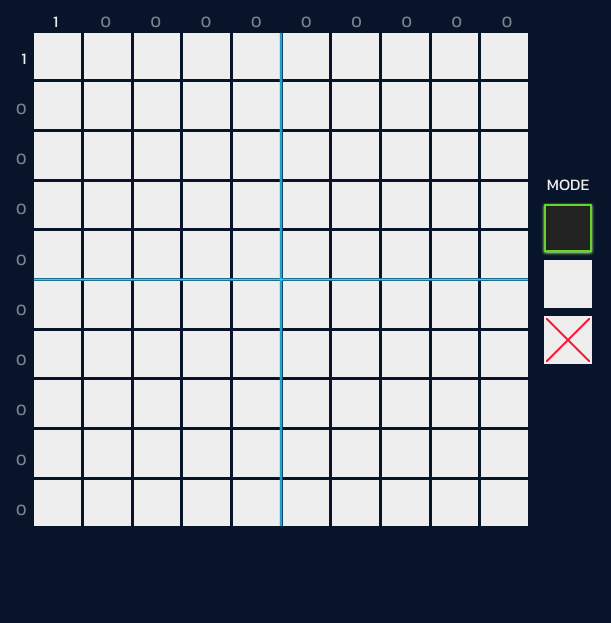
Scenario: Solve tests: › General user tests: › Solved puzzle tests: › It should show the puzzle title and artist username once the puzzle is solved
The width and height of the screenshot is (611, 623).
Press the mouse on the cell titled "1,1" at (58, 56), box [34,33,81,79]
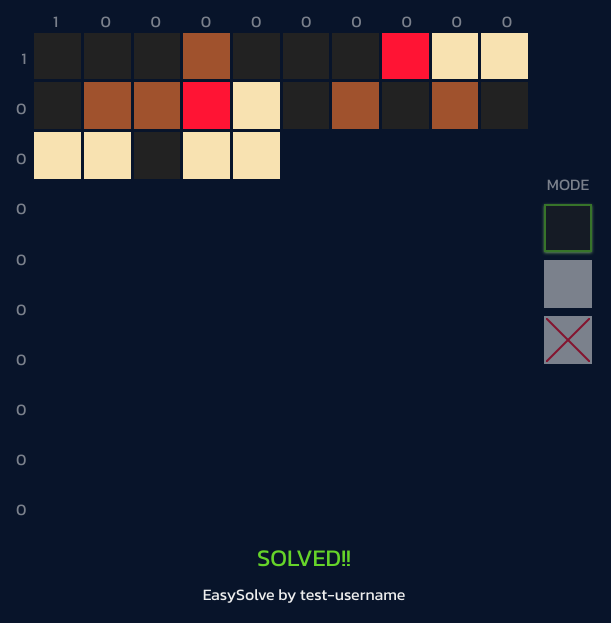
Expected: the heading "SOLVED!!" is shown, [257,542,351,574]
Expected: the text "EasySolve by test-username" is shown, [203,582,405,606]
